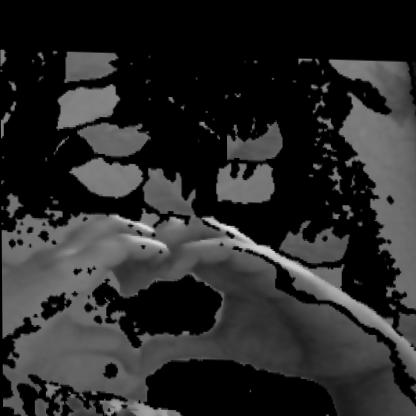heart: (37, 192, 346, 395)
